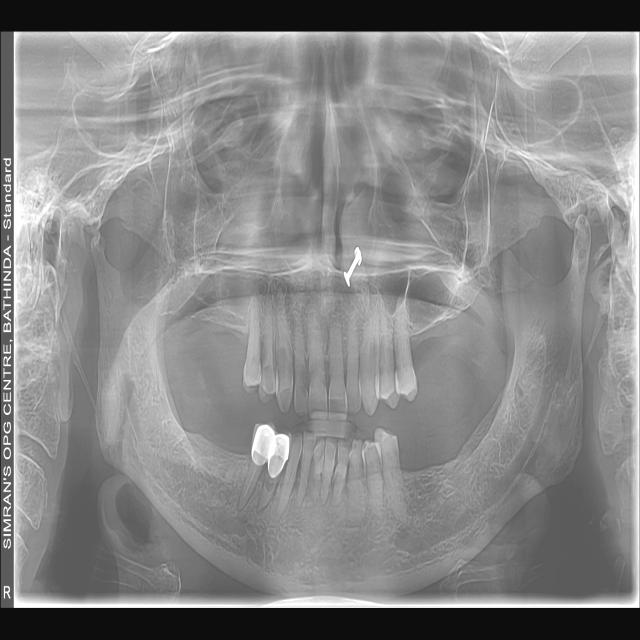Caries: (300, 364, 308, 392)
Crown: (251, 421, 277, 468), (268, 431, 292, 478)
Mandibular Canal: (394, 341, 558, 556), (121, 372, 248, 537)
Missing teeth: (399, 374, 496, 472), (413, 305, 480, 385), (180, 388, 255, 453), (181, 316, 247, 378)
Periapical lesion: (256, 498, 271, 513), (236, 494, 246, 512)
Root Canal Treatment: (244, 465, 258, 499)
